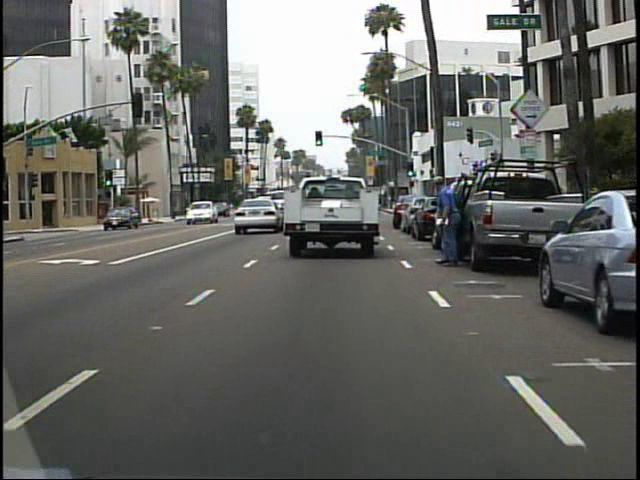person: (424, 174, 471, 274)
